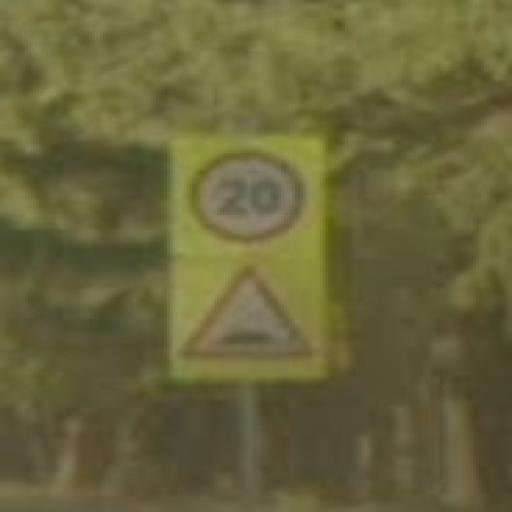traffic_sign: (179, 265, 318, 362), (188, 152, 307, 243)
